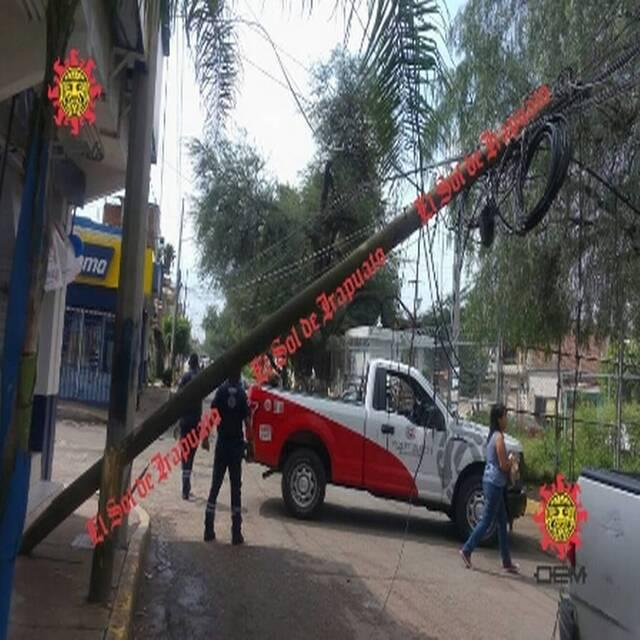Inclined Pole: (16, 77, 585, 553)
